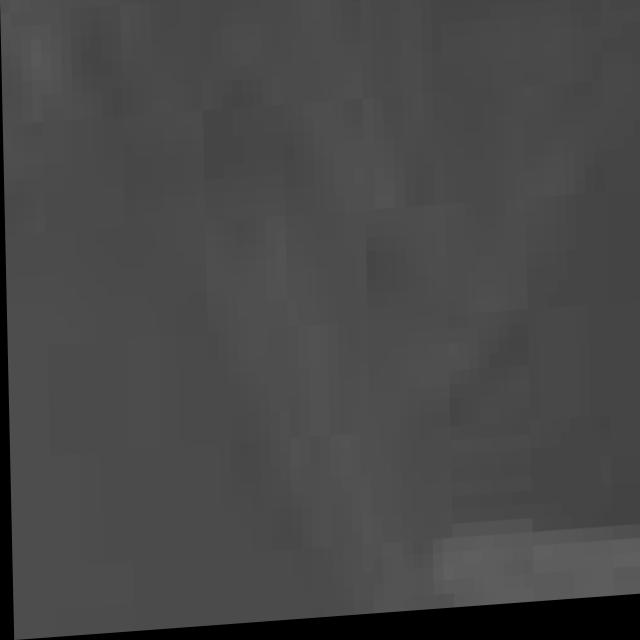fracture: (1, 0, 640, 633)
